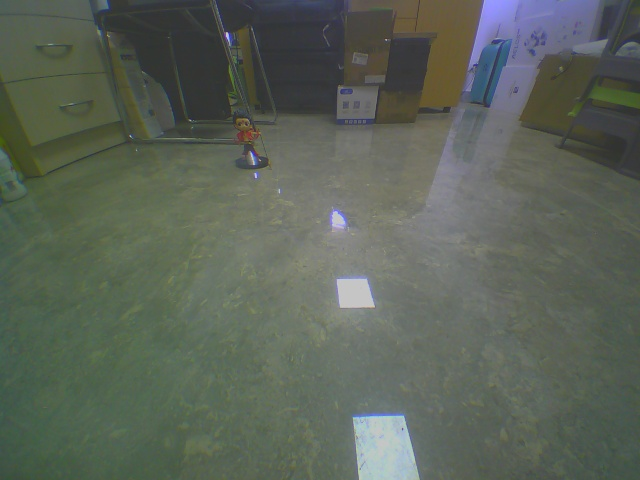Nezha: (230, 110, 285, 181)
